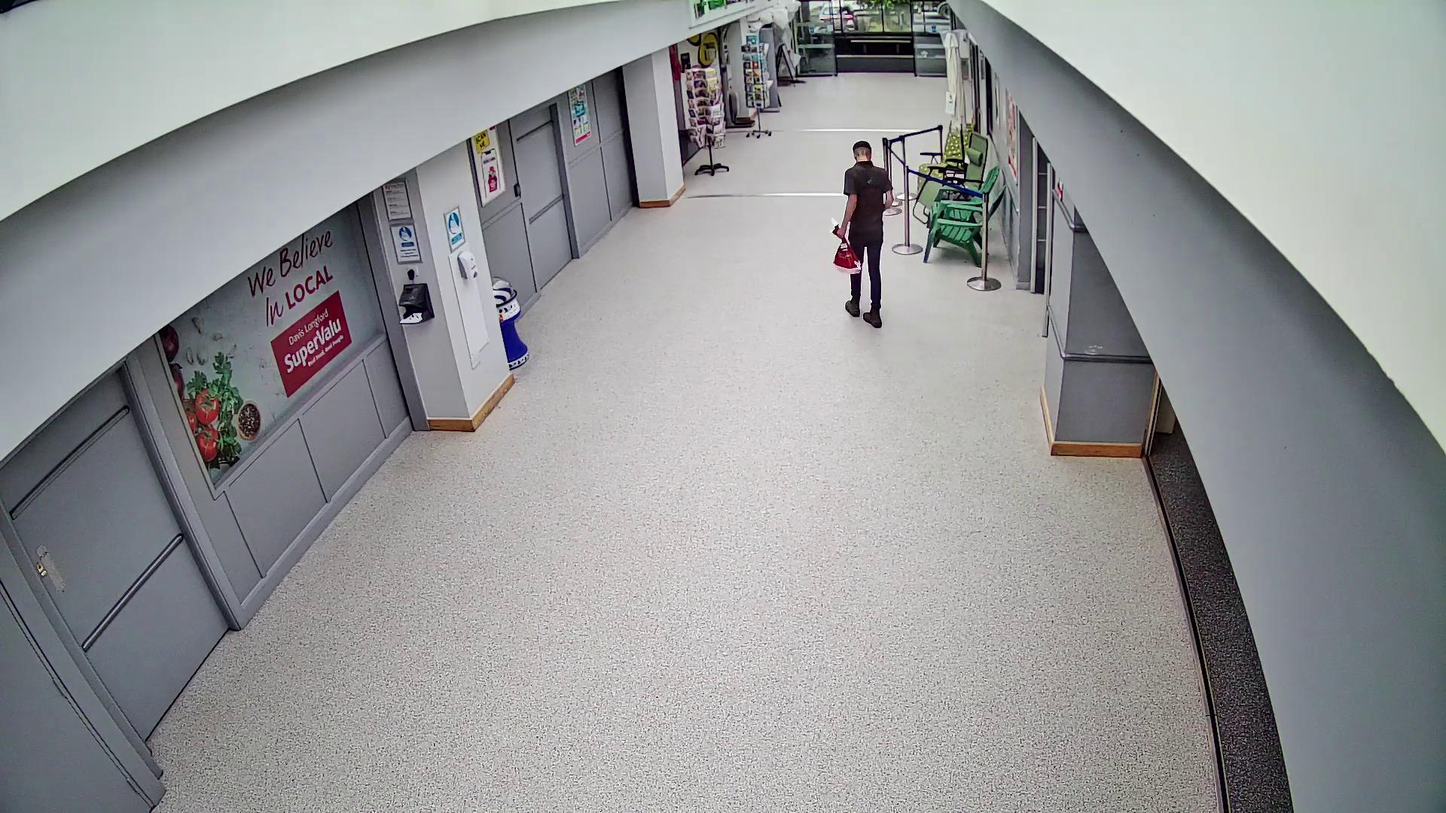filled-shopping-bags: (833, 236, 861, 275)
person: (838, 141, 893, 329)
person-with-filled-shopping-bag-s-: (833, 141, 893, 329)
